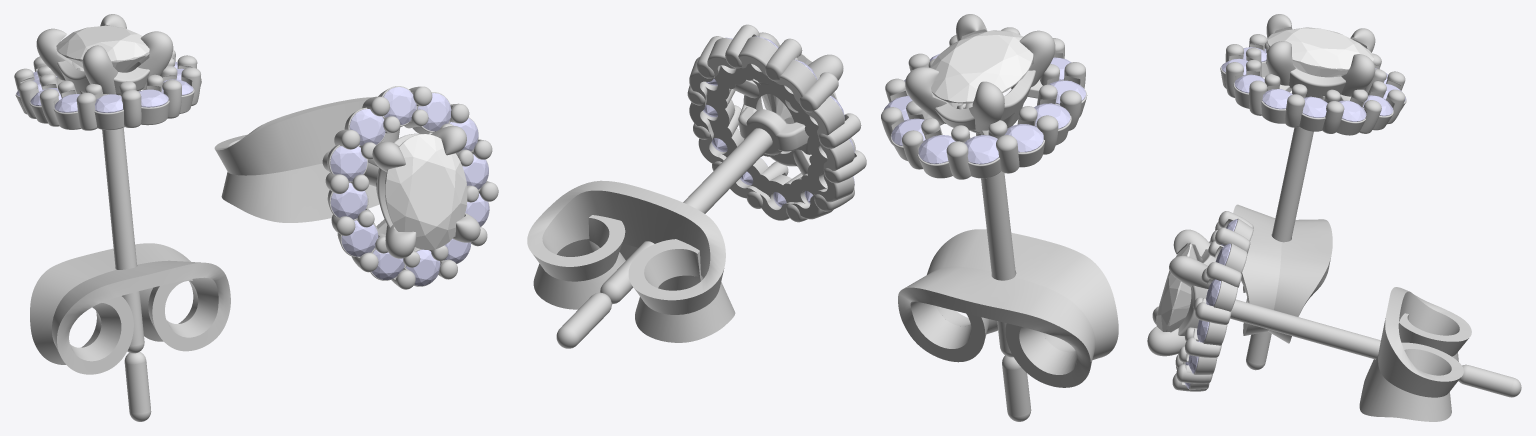
The picture shows the model from 3 angles, left to right: view 1: azimuth 30°, elevation 25°; view 2: azimuth 150°, elevation 25°; view 3: azimuth 270°, elevation 25°; orthographic projection. The views are drawn at different scales.
Parts seen in each view (by area): view 1: EAR-2508347_3D.3dm; view 2: EAR-2508347_3D.3dm; view 3: EAR-2508347_3D.3dm.
Boxes of the visible parts, x1,y1,x2,y2 form: EAR-2508347_3D.3dm: (14,14,498,421); EAR-2508347_3D.3dm: (527,14,1118,421); EAR-2508347_3D.3dm: (1147,14,1521,421).
Size of the model in its own units: 2.63 by 2.13 by 2.13.
